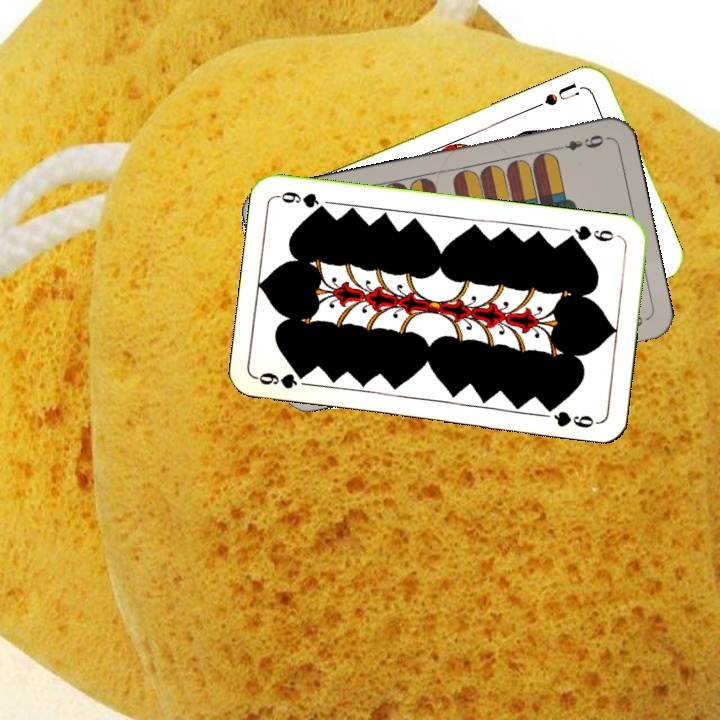E9: (551, 130, 609, 154)
G9: (253, 368, 308, 392), (562, 221, 616, 244)
SU: (531, 79, 582, 111)
